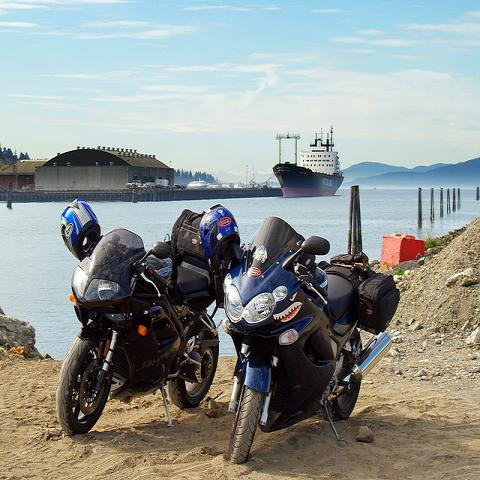motorcycle: (224, 216, 394, 465), (48, 201, 222, 436)
truck: (156, 178, 169, 190), (143, 181, 154, 188)
